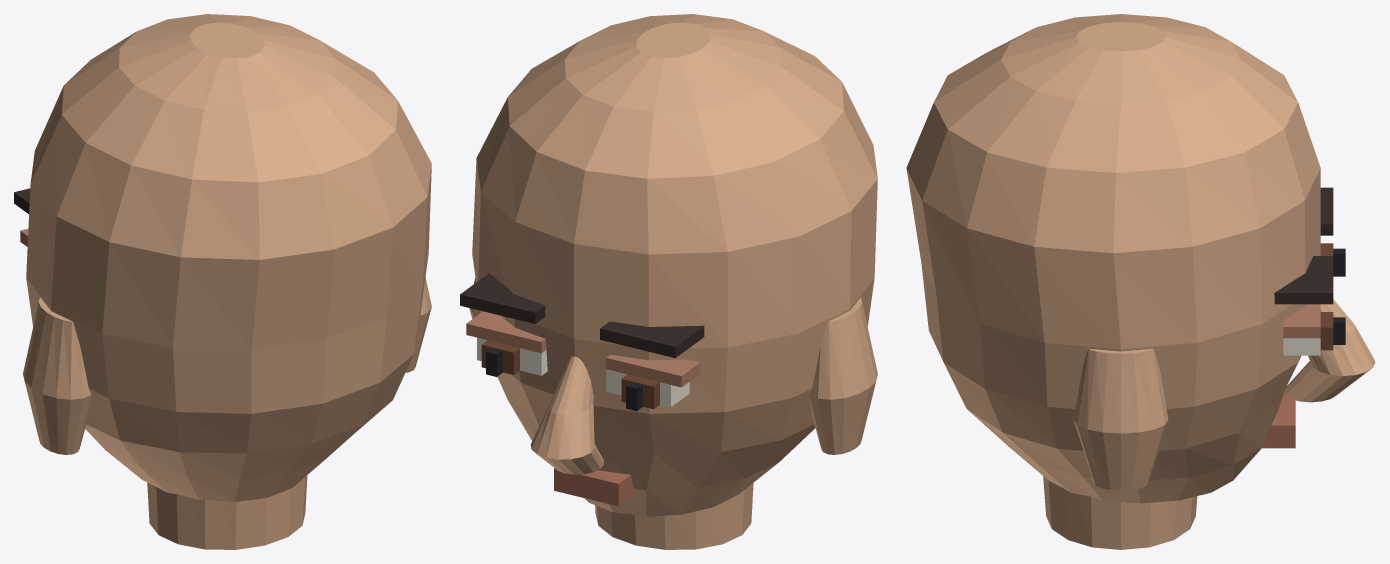
Rendered from CHAR-067.glb.
The picture shows the model from 3 angles, left to right: view 1: azimuth 30°, elevation 25°; view 2: azimuth 150°, elevation 25°; view 3: azimuth 270°, elevation 25°; orthographic projection.
Parts seen in each view (by area): view 1: 精细婴幼儿头部母版; view 2: 精细婴幼儿头部母版; view 3: 精细婴幼儿头部母版.
Boxes of the visible parts, box(x1,y1,x2,y2) form: 精细婴幼儿头部母版: box(14, 14, 431, 549); 精细婴幼儿头部母版: box(460, 14, 877, 549); 精细婴幼儿头部母版: box(906, 14, 1375, 549).
Bounding box in the file's own units: 0.182 × 0.212 × 0.188.
7 materials, 7 textured.
